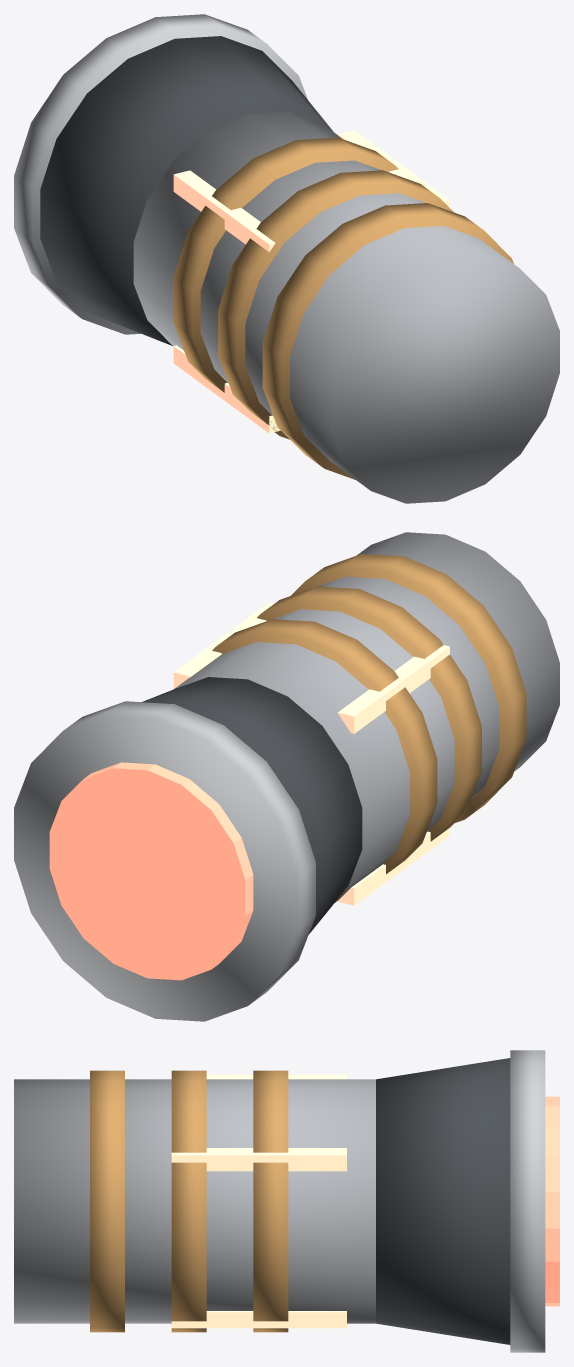
File: part_cocka.glb
The picture shows the model from 3 angles, top to bottom: view 1: azimuth 30°, elevation 25°; view 2: azimuth 150°, elevation 25°; view 3: azimuth 270°, elevation 25°; orthographic projection. The views are drawn at different scales.
Visible parts, largest first — view 1: Cocka; view 2: Cocka; view 3: Cocka.
Part boxes in pixels (x1,y1,x2,y2): Cocka: [14, 14, 559, 503]; Cocka: [14, 532, 559, 1021]; Cocka: [14, 1050, 559, 1352].
Bounding box in the file's own units: 0.0512 × 0.052 × 0.0935.
